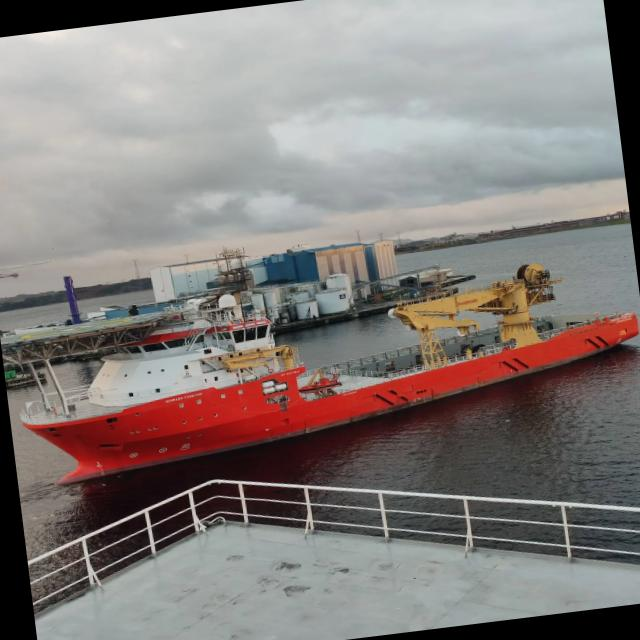Offshore: (21, 254, 638, 484)
